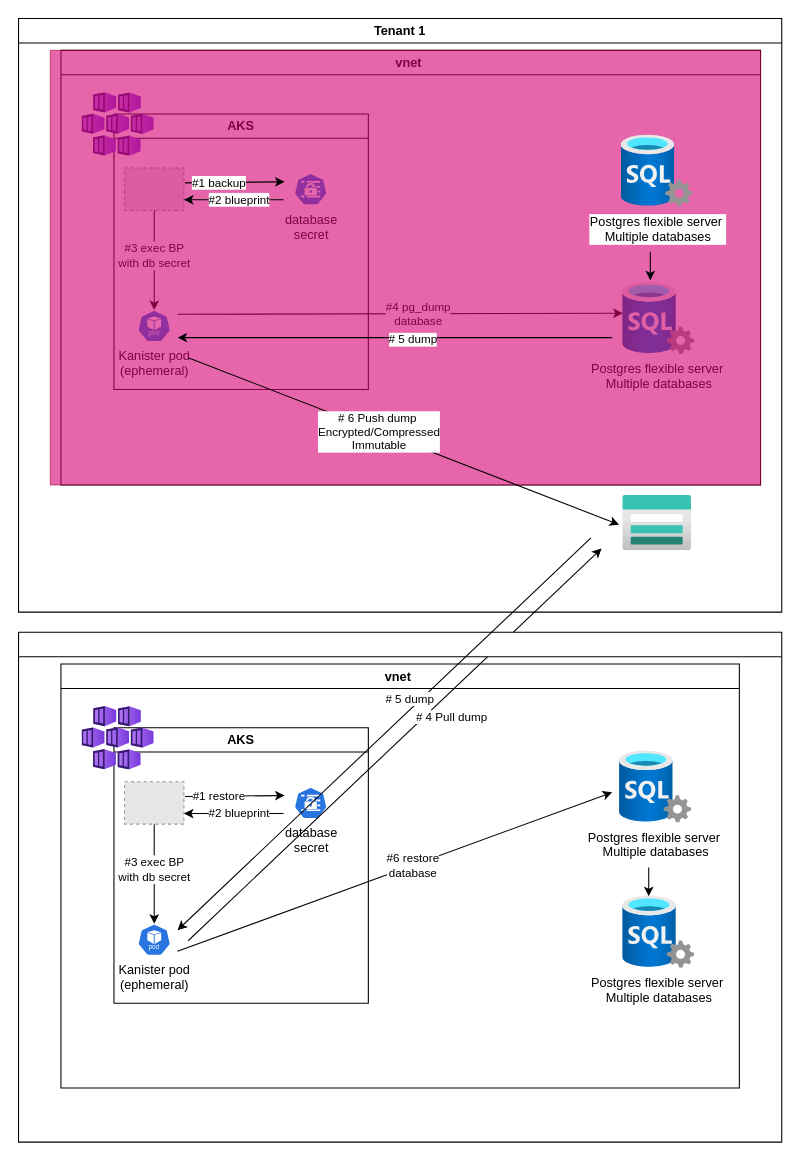
Image size: 800x1161. Some labels were removed from this diagram. Grey dashed boxes stand in for pictures. The centre of each missing label's shape, as x and y in pixels:
Storage account container with version-level immutability: the point at 656,522
Tenant 2: the point at 399,886
